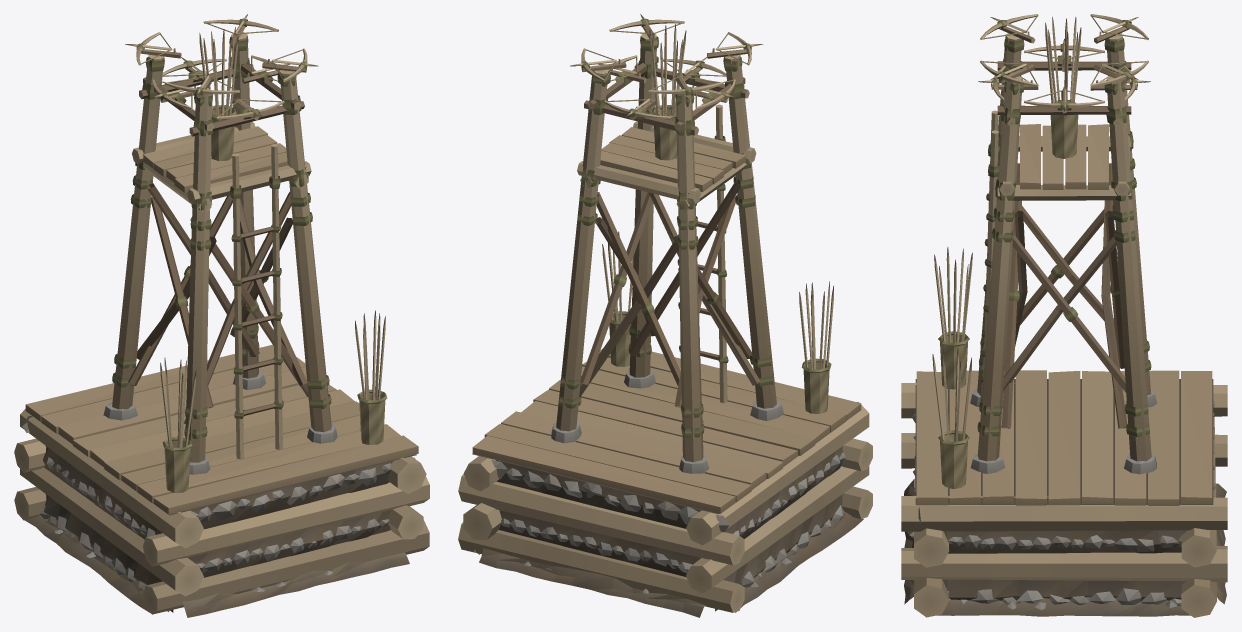
File: bow_tower_a.glb
The picture shows the model from 3 angles, left to right: view 1: azimuth 30°, elevation 25°; view 2: azimuth 150°, elevation 25°; view 3: azimuth 270°, elevation 25°; orthographic projection. The views are drawn at different scales.
Visible parts, largest first — view 1: Base, Store3, Store2, Quiver; view 2: Base, Store2, Quiver, Store3; view 3: Base, Store2, Quiver, Store3, Bow2.
Boxes of the visible parts, x1,y1,x2,y2 form: Base: (14, 25, 429, 617); Store3: (355, 310, 387, 444); Store2: (160, 358, 196, 492); Quiver: (199, 27, 238, 160); Base: (458, 25, 872, 617); Store2: (799, 281, 833, 413); Quiver: (649, 24, 686, 160); Store3: (602, 231, 633, 366); Base: (901, 26, 1227, 617); Store2: (934, 247, 972, 389); Quiver: (1045, 17, 1081, 158); Store3: (932, 348, 971, 488); Bow2: (1024, 89, 1104, 110).
Bounding box in the file's own units: 1.95 × 3.47 × 1.95.
